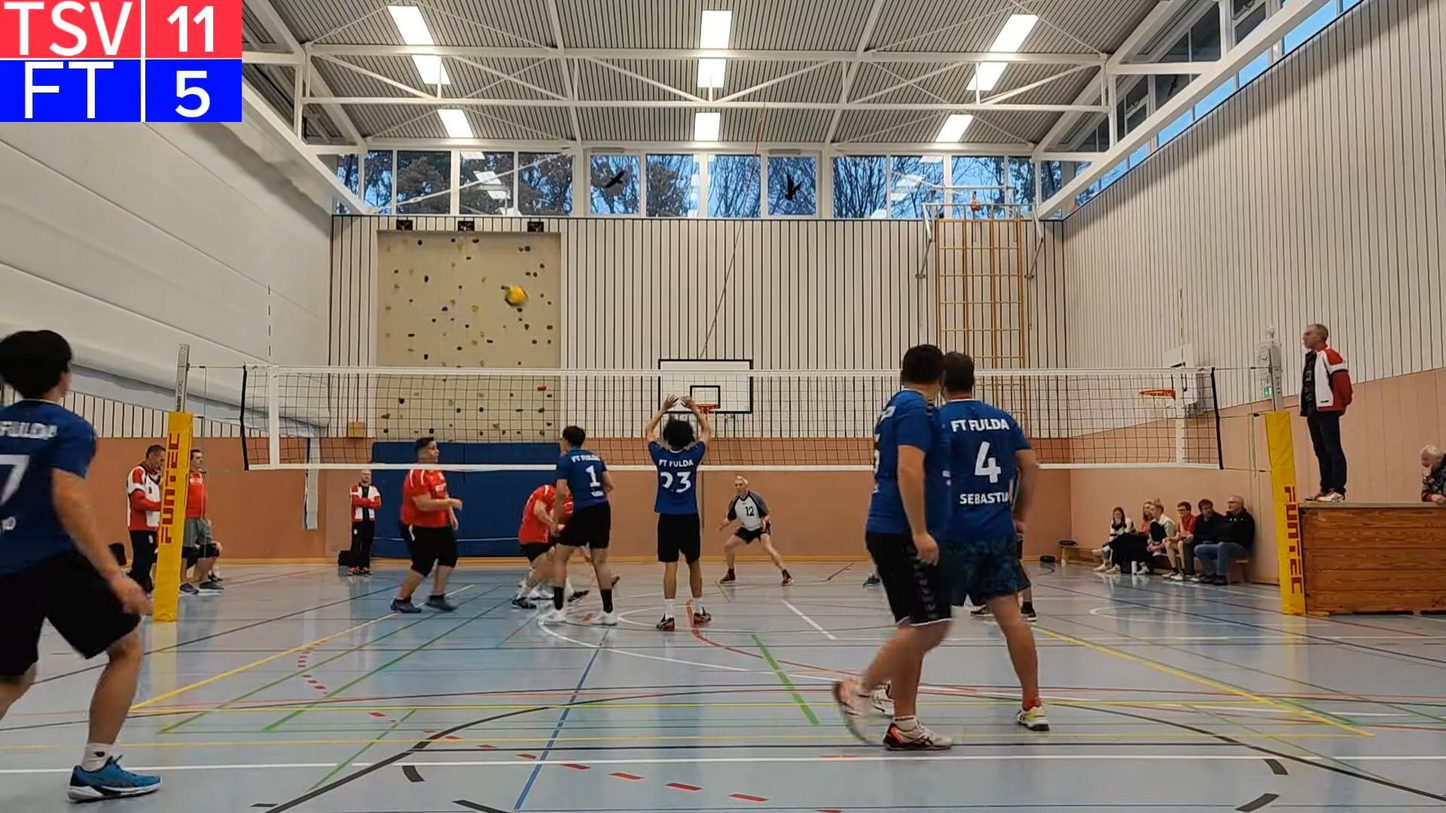Player: (0, 331, 160, 800), (833, 346, 951, 749), (939, 353, 1048, 730), (644, 395, 711, 630), (543, 425, 618, 626), (391, 468, 462, 613), (719, 475, 792, 586), (511, 484, 560, 608), (1019, 586, 1037, 621), (1020, 586, 1037, 623)
ball: (500, 284, 526, 303)
